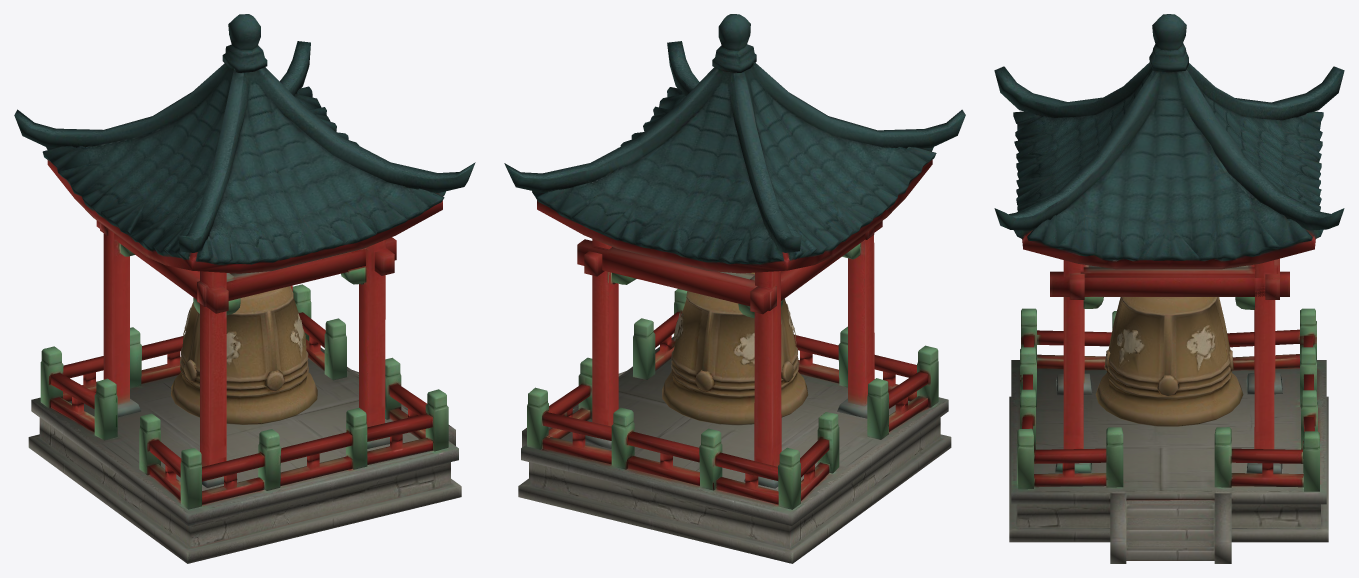
Rendered from tripo_convert_f7697f78-65b3-4a53-9a2d-dab2e4868c2f.fbx.
3 views of the same model, side by side, from view 1: azimuth 30°, elevation 25°; view 2: azimuth 150°, elevation 25°; view 3: azimuth 270°, elevation 25° (orthographic).
Visible parts, largest first — view 1: tripo_node_f7697f78; view 2: tripo_node_f7697f78; view 3: tripo_node_f7697f78.
Boxes of the visible parts, box(x1,y1,x2,y2) form: tripo_node_f7697f78: box(14, 14, 475, 563); tripo_node_f7697f78: box(504, 14, 965, 563); tripo_node_f7697f78: box(994, 14, 1344, 563).
Size of the model in its own units: 0.7559 by 0.998 by 0.6895.
1 material, 1 textured.
